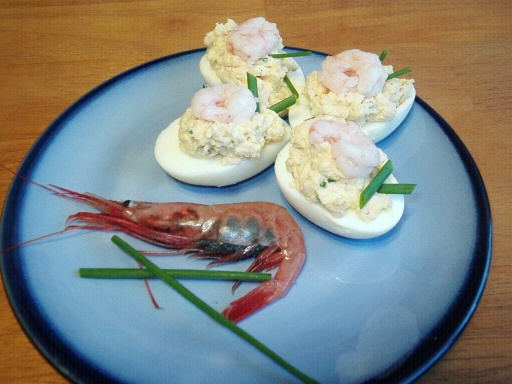background: (0, 101, 257, 230), (123, 10, 334, 142)
